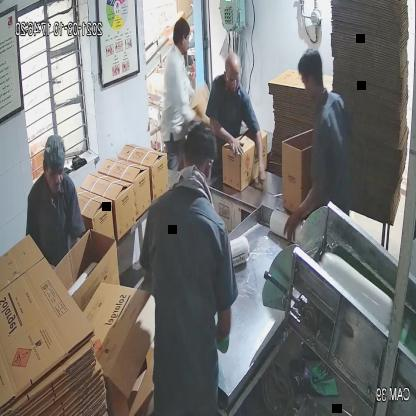no_glove: (282, 166, 327, 246), (207, 119, 246, 160), (251, 121, 269, 197)
